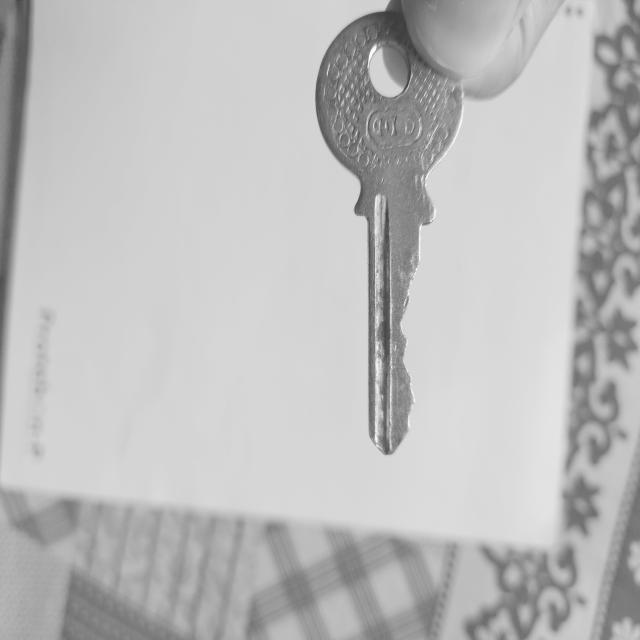KEY: (316, 10, 464, 455)
